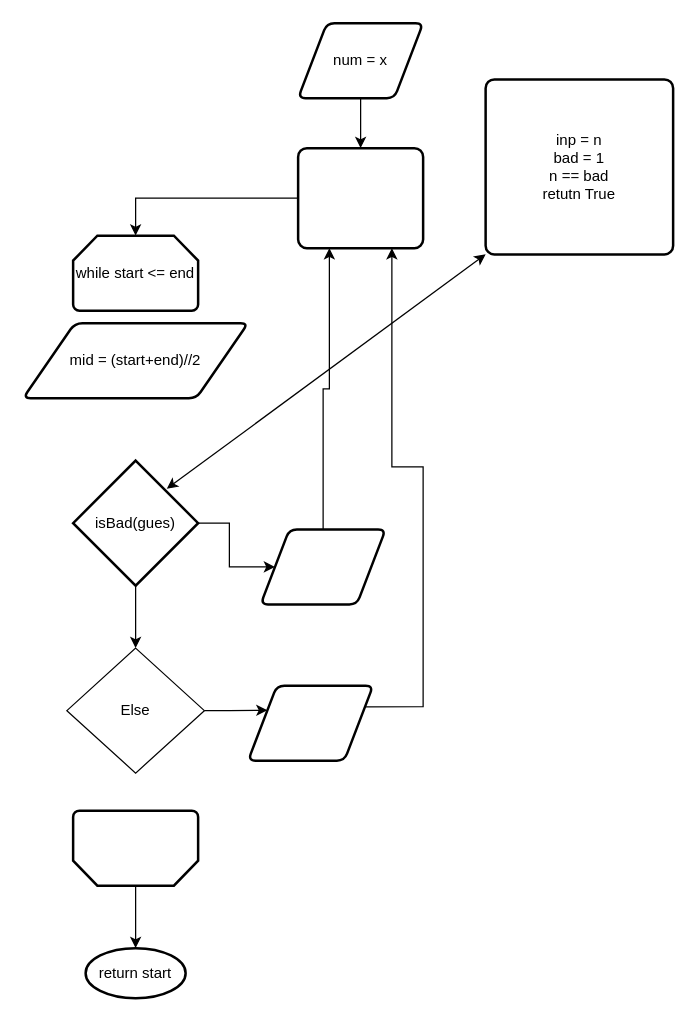
Image size: 695x1020. Some labels were removed from this diagram. Each missing label, with the centre of its shape:
"end = mid - 1" belongs at [322,566].
"start = 1 end = n" belongs at [360,197].
"start = mid +1" belongs at [310,722].
